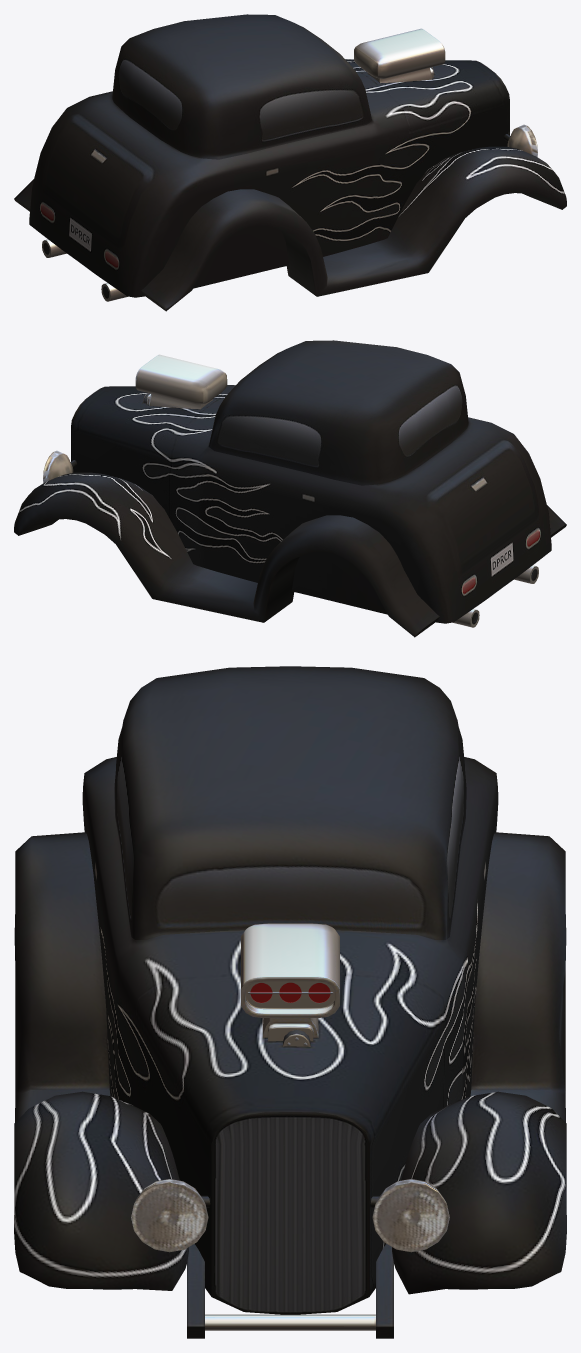
Rendered from f1_hotrod_01.dae.
3 views of the same model, one above another, from view 1: azimuth 30°, elevation 25°; view 2: azimuth 150°, elevation 25°; view 3: azimuth 270°, elevation 25° (orthographic). The views are drawn at different scales.
Visible parts, largest first — view 1: hotrod_body; view 2: hotrod_body; view 3: hotrod_body.
Boxes of the visible parts, x1,y1,x2,y2 form: hotrod_body: [14, 14, 566, 311]; hotrod_body: [14, 340, 566, 637]; hotrod_body: [14, 666, 566, 1338].
Bounding box in the file's own units: 0.2866 × 0.1707 × 0.1279.
Materials: 1 (1 with a texture image).
